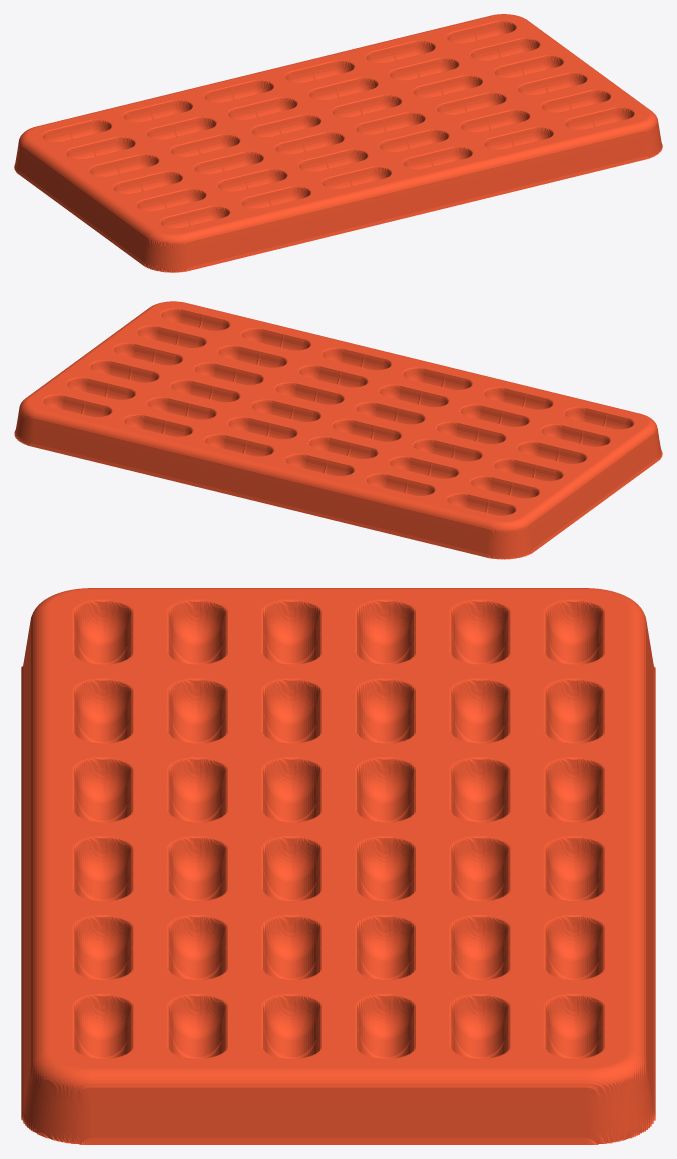
File: mold.glb
3 views of the same model, one above another, from view 1: azimuth 30°, elevation 25°; view 2: azimuth 150°, elevation 25°; view 3: azimuth 270°, elevation 25° (orthographic). The views are drawn at different scales.
Visible parts, largest first — view 1: geometry_0; view 2: geometry_0; view 3: geometry_0.
Part boxes in pixels (box(x1,y1,x2,y2)): geometry_0: box(14, 14, 662, 272); geometry_0: box(14, 301, 662, 559); geometry_0: box(21, 588, 655, 1144).
Size of the model in its own units: 0.1545 by 0.00926 by 0.0825.
